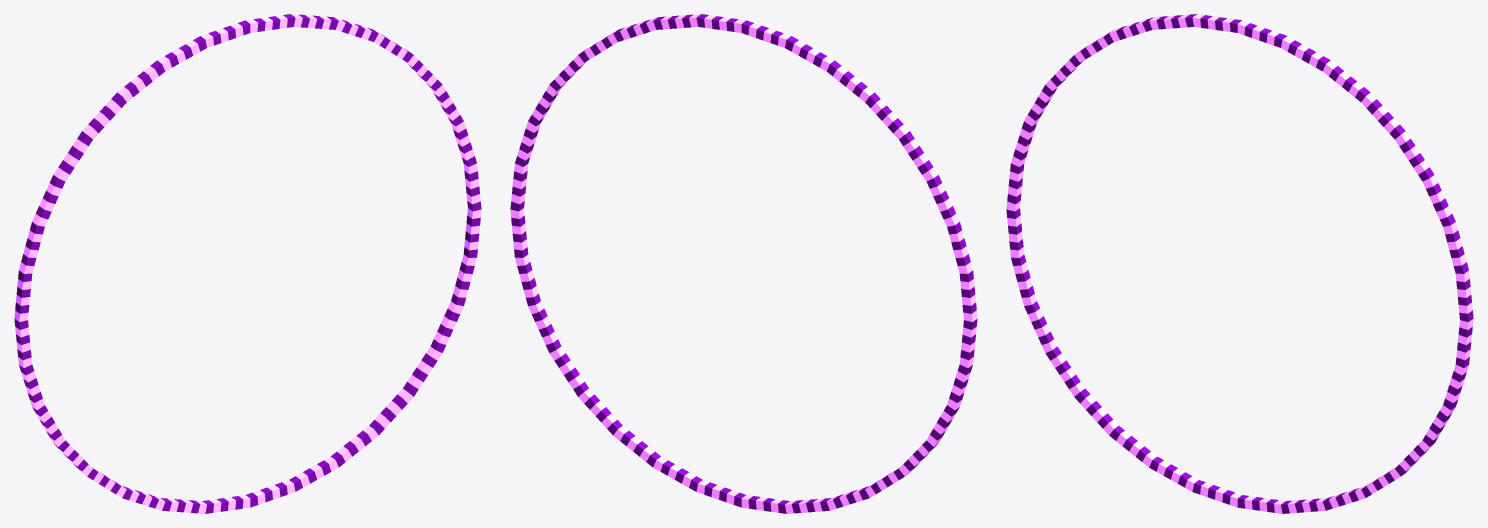
3 views of the same model, side by side, from view 1: azimuth 30°, elevation 25°; view 2: azimuth 150°, elevation 25°; view 3: azimuth 330°, elevation 25° (orthographic).
Visible parts, largest first — view 1: circle outer; view 2: circle outer; view 3: circle outer.
Part boxes in pixels (bbox=[...]): circle outer: bbox=[14, 14, 481, 513]; circle outer: bbox=[510, 14, 977, 513]; circle outer: bbox=[1006, 14, 1473, 513].
Size of the model in its own units: 8.82 by 8.82 by 0.1645.
